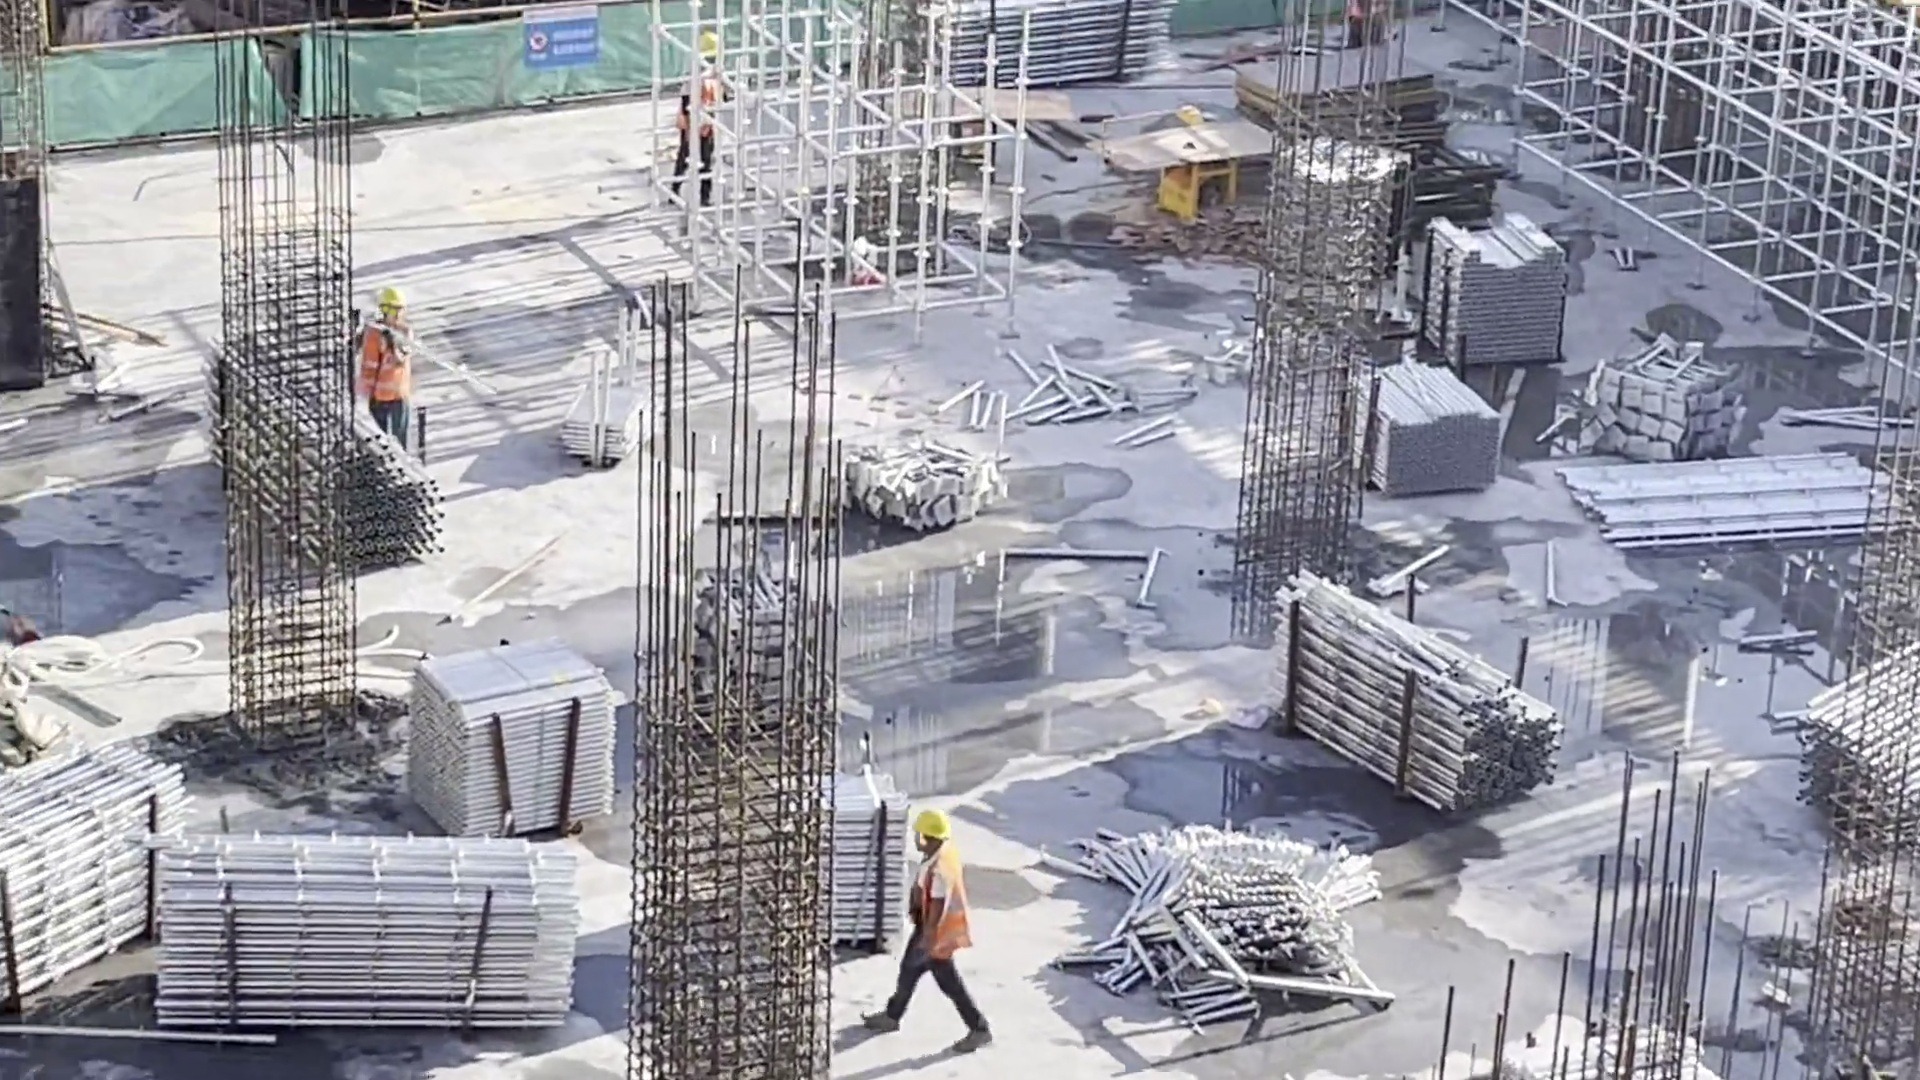board: (1233, 58, 1437, 123)
cutter: (1121, 128, 1289, 245), (921, 72, 1055, 168)
helmet: (909, 808, 946, 847), (374, 290, 403, 311), (703, 32, 719, 55)
person: (851, 794, 1004, 1061), (352, 290, 425, 453), (670, 35, 725, 213)
scaffold: (161, 849, 567, 1051), (207, 368, 429, 599), (1296, 609, 1543, 812), (1129, 826, 1358, 1019), (1, 747, 172, 928), (1576, 460, 1895, 546), (451, 648, 588, 825), (1368, 361, 1504, 520), (903, 1, 1196, 73), (1433, 236, 1576, 380), (1821, 645, 1919, 839), (1281, 136, 1404, 288), (553, 311, 656, 459)
slogan: (524, 17, 604, 66)
vest: (901, 851, 962, 980), (365, 318, 410, 416), (677, 79, 718, 140)
